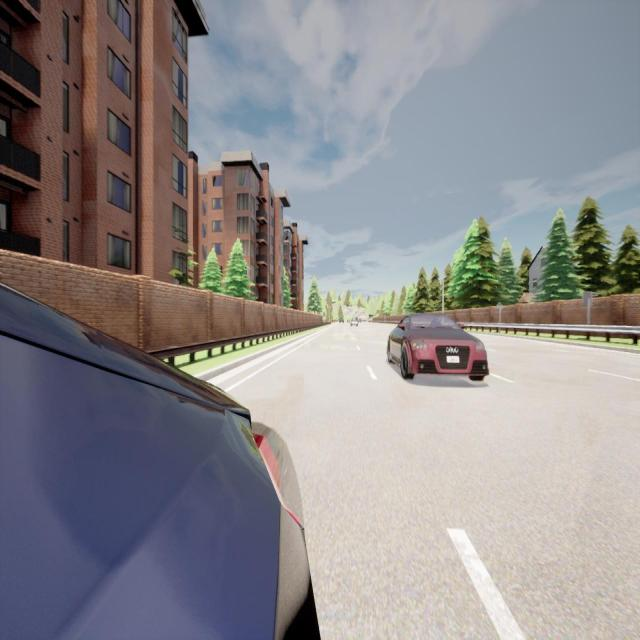Traffic_Signs: (582, 291, 592, 308), (496, 300, 504, 312)
Vehicle: (0, 282, 321, 640), (385, 313, 490, 384), (350, 316, 359, 328), (357, 317, 362, 323), (339, 318, 344, 323)
